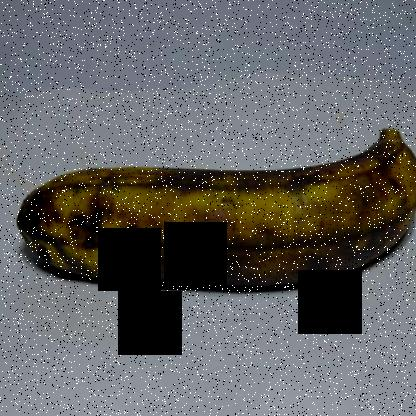overripe: (11, 125, 415, 306)
